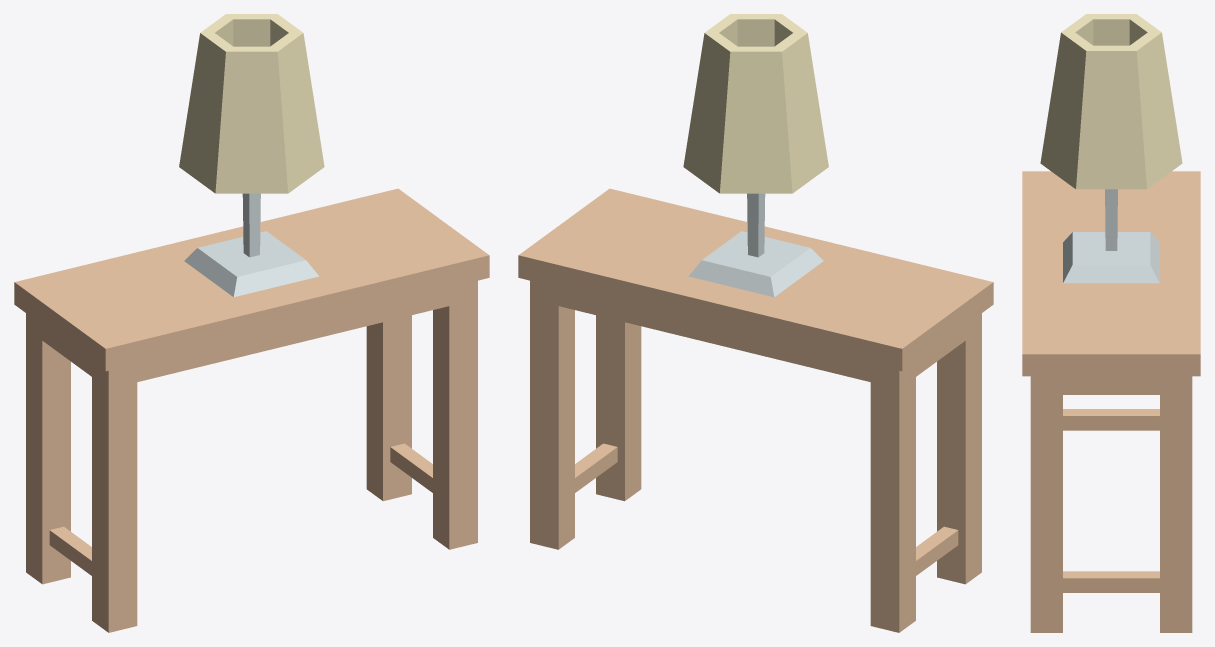
Rendered from tableLamp.glb.
The picture shows the model from 3 angles, left to right: view 1: azimuth 30°, elevation 25°; view 2: azimuth 150°, elevation 25°; view 3: azimuth 270°, elevation 25°; orthographic projection. The views are drawn at different scales.
Visible parts, largest first — view 1: sideTable(Clone), lampRoundTable(Clone); view 2: sideTable(Clone), lampRoundTable(Clone); view 3: sideTable(Clone), lampRoundTable(Clone).
Part boxes in pixels (box(x1,y1,x2,y2)): sideTable(Clone): box(14, 188, 489, 632); lampRoundTable(Clone): box(179, 14, 324, 297); sideTable(Clone): box(518, 188, 993, 632); lampRoundTable(Clone): box(683, 14, 828, 297); sideTable(Clone): box(1022, 171, 1200, 632); lampRoundTable(Clone): box(1040, 14, 1182, 283).
Bounding box in the file's own units: 0.5345 × 0.6982 × 0.22.
